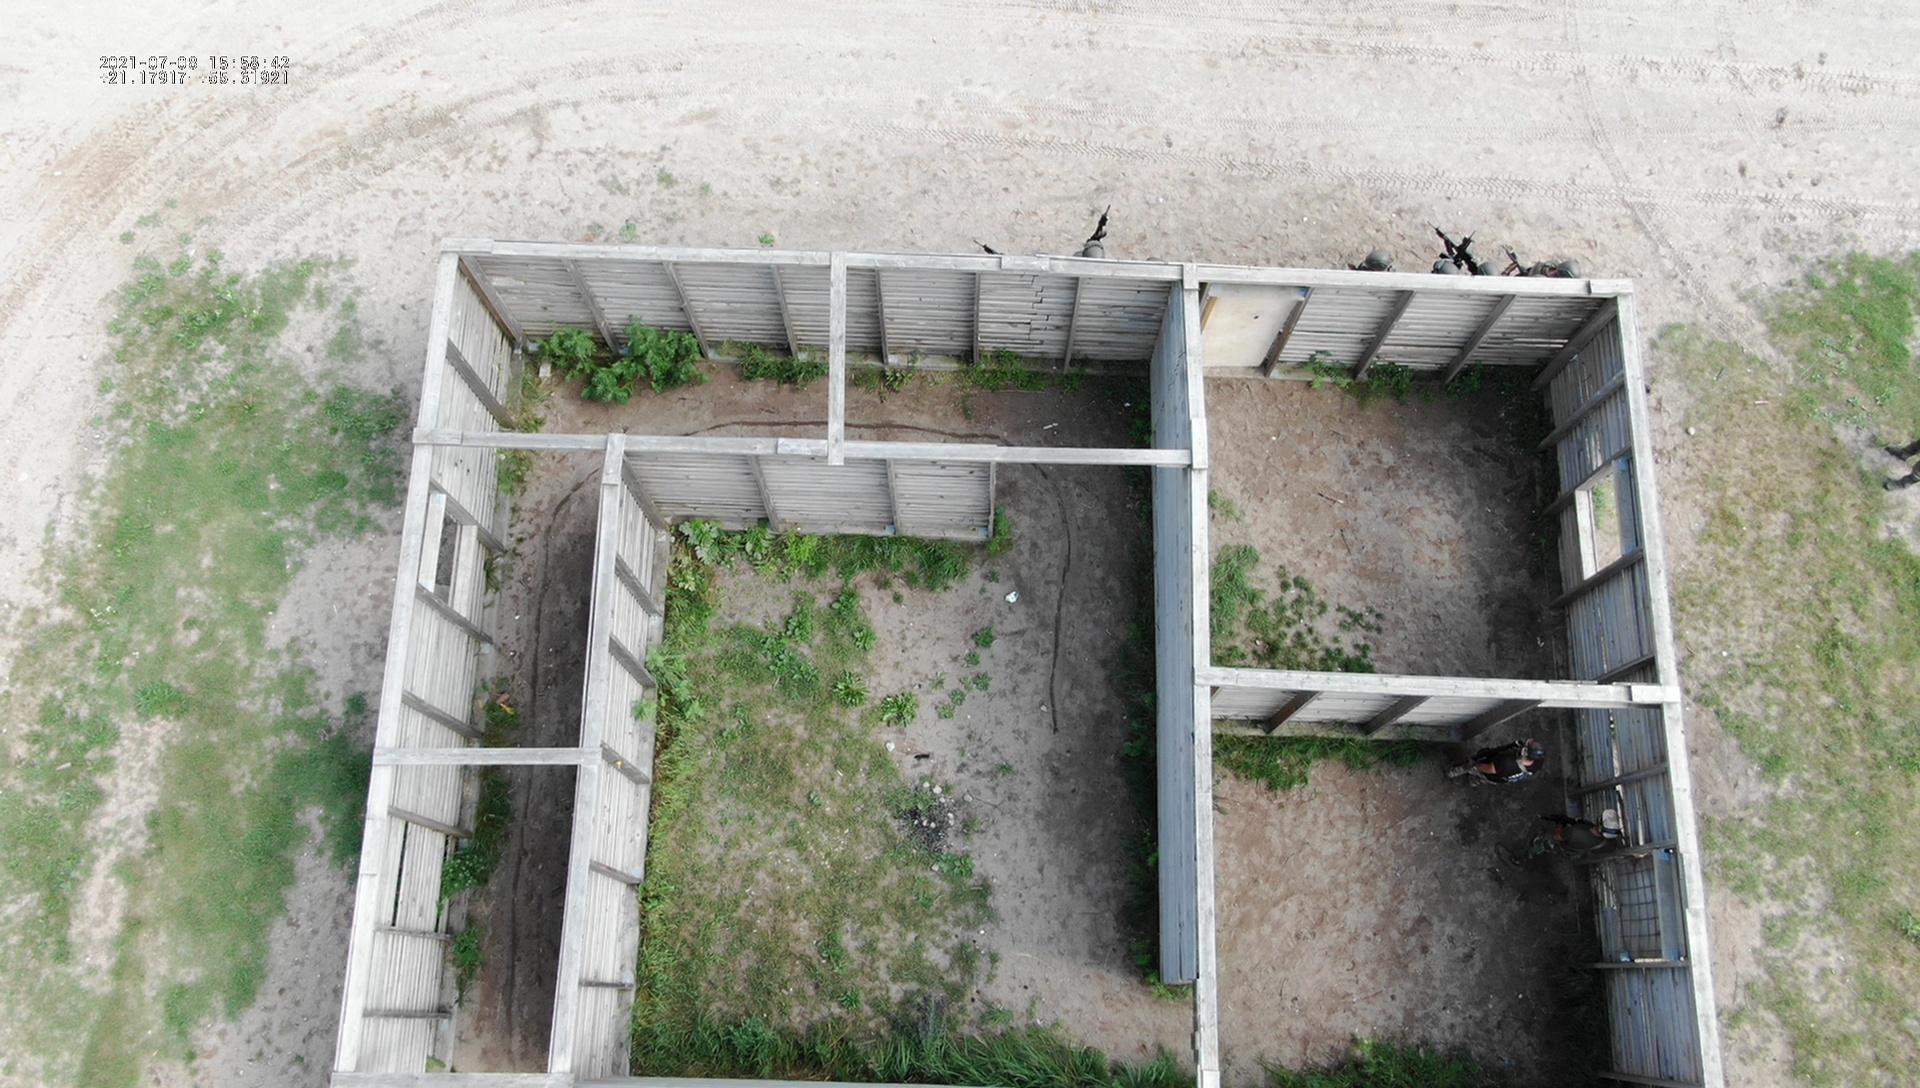Soldier: (1495, 806, 1615, 910), (1458, 727, 1548, 837), (1073, 193, 1121, 262), (1440, 220, 1476, 285), (1528, 249, 1586, 289), (1462, 226, 1498, 282)
